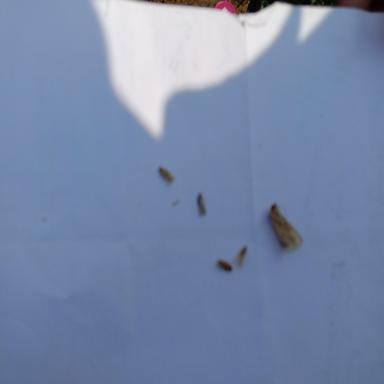pbw: (158, 167, 176, 185), (196, 193, 207, 215), (217, 258, 233, 272)
